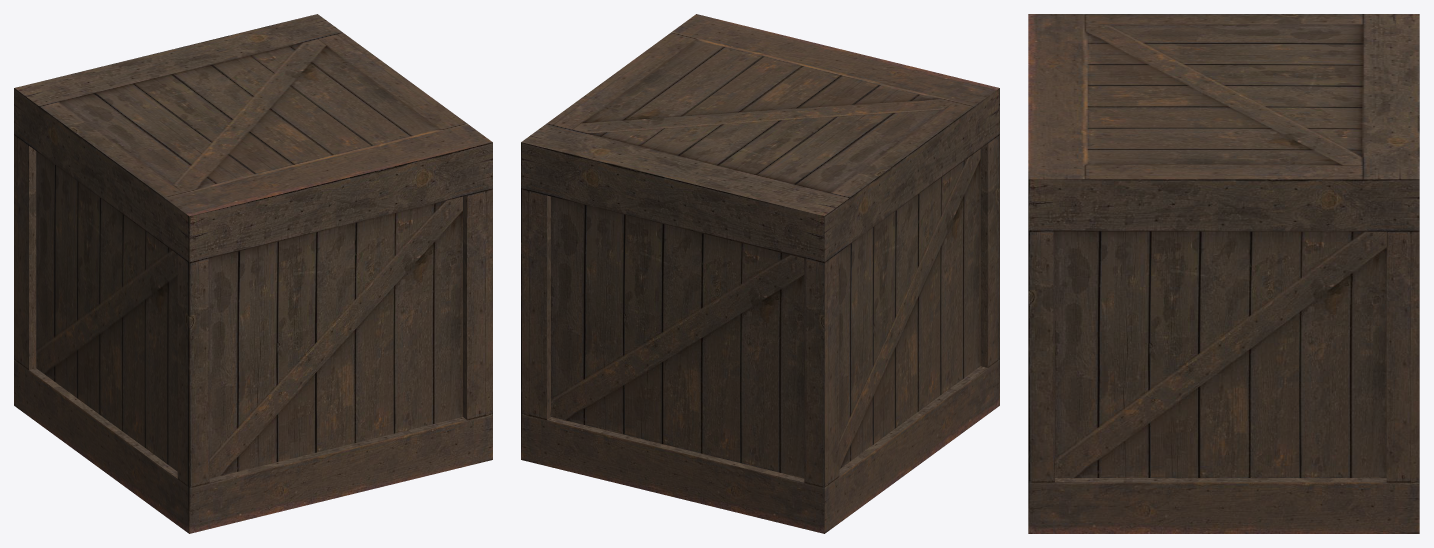
The picture shows the model from 3 angles, left to right: view 1: azimuth 30°, elevation 25°; view 2: azimuth 150°, elevation 25°; view 3: azimuth 270°, elevation 25°; orthographic projection. The views are drawn at different scales.
Parts seen in each view (by area): view 1: box 01; view 2: box 01; view 3: box 01.
Boxes of the visible parts, bbox=[...] form: box 01: bbox=[14, 14, 492, 533]; box 01: bbox=[521, 14, 999, 533]; box 01: bbox=[1028, 14, 1419, 533].
Size of the model in its own units: 0.986 by 0.9858 by 0.9859.
1 material, 1 textured.
